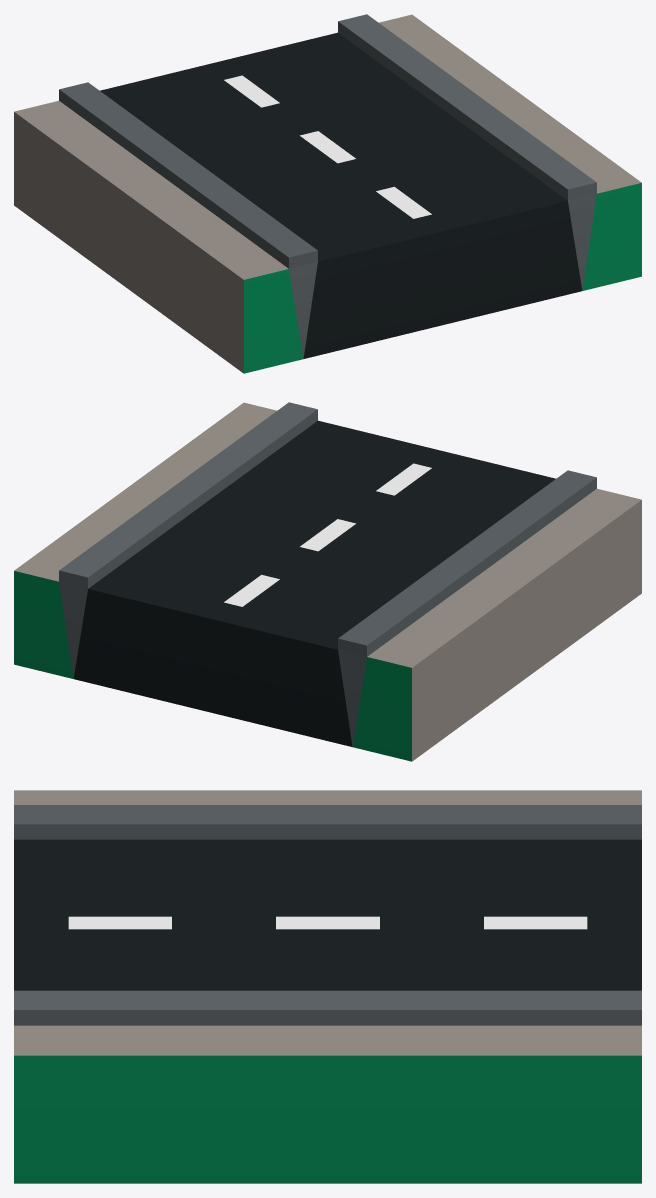
File: CARRETERA SIMLEfbx.fbx
3 views of the same model, one above another, from view 1: azimuth 30°, elevation 25°; view 2: azimuth 150°, elevation 25°; view 3: azimuth 270°, elevation 25° (orthographic). The views are drawn at different scales.
Parts seen in each view (by area): view 1: normal.002; view 2: normal.002; view 3: normal.002.
Part boxes in pixels (box(x1,y1,x2,y2)): normal.002: box(14, 14, 641, 373); normal.002: box(14, 402, 641, 761); normal.002: box(14, 790, 641, 1183).
Bounding box in the file's own units: 900 × 227 × 900.
1 material, 1 textured.
